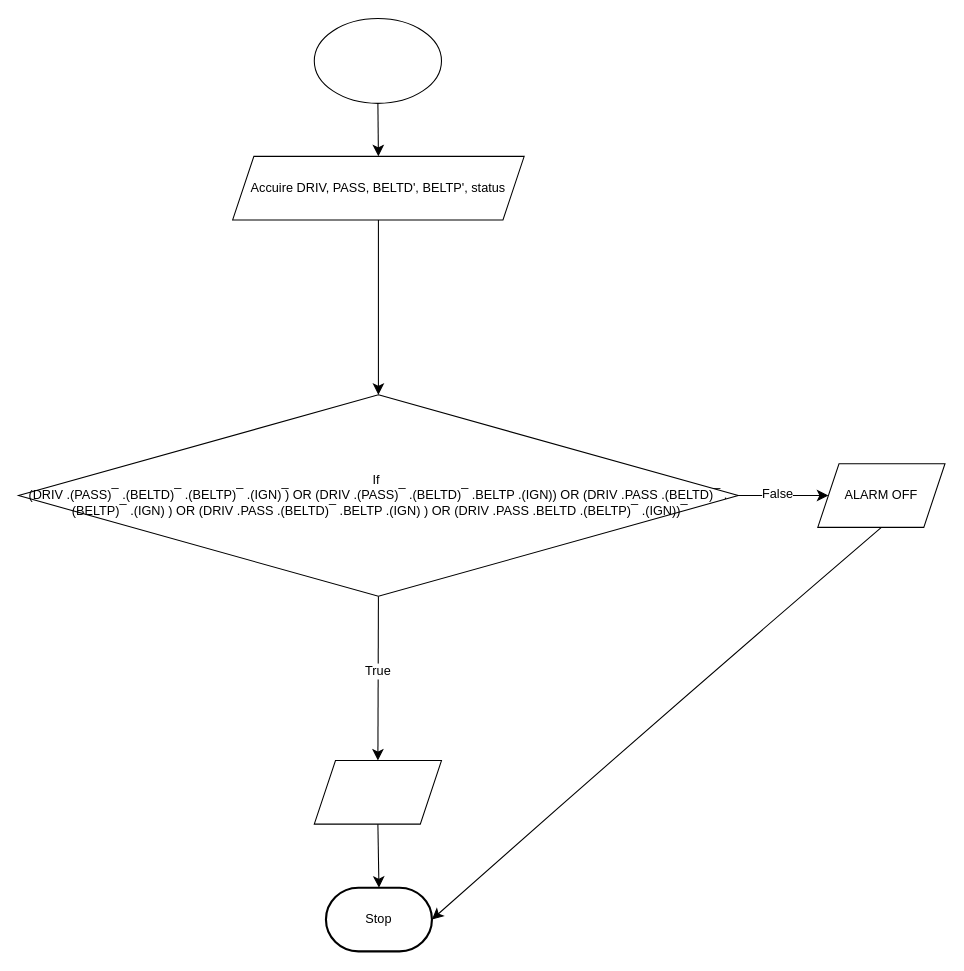
Some shapes in this 964 by 971 pixel diagram are drawn without their labels. The shapes that lost their labels are listed below. From the top down, each one's centre as x and y in pixels, then its label:
At point (377, 60): "Start".
At point (377, 791): "ALARM ON".
